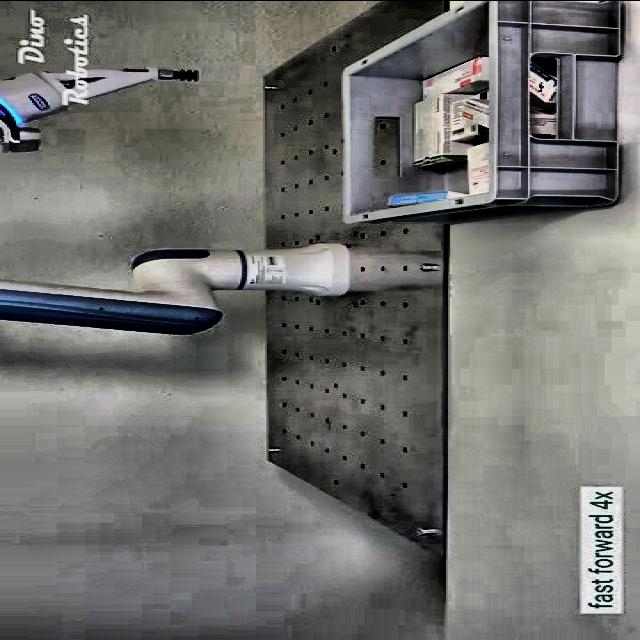robot: (0, 66, 350, 335)
